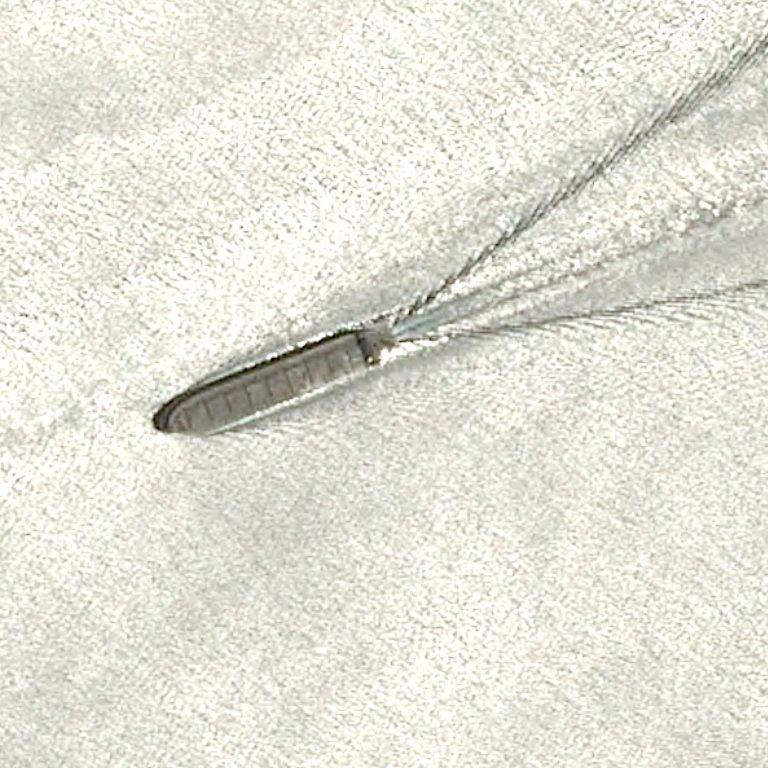ship: (155, 362, 377, 403), (157, 417, 174, 430), (365, 358, 371, 372), (351, 332, 361, 335)
